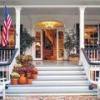stairs: (9, 65, 91, 94)
